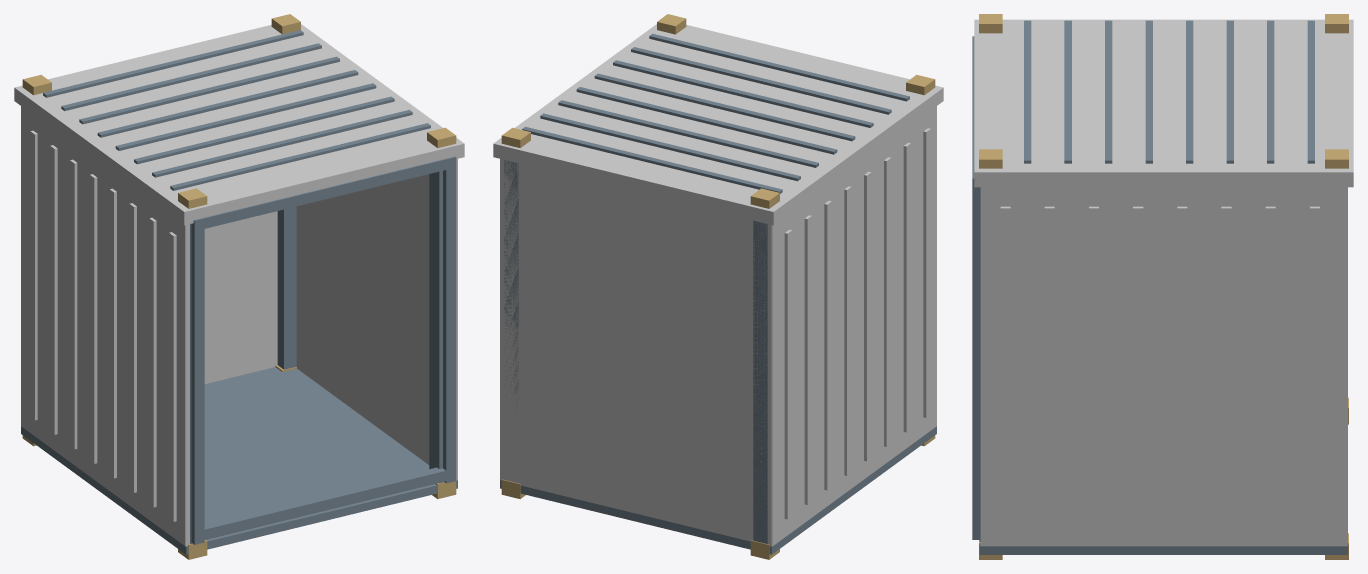
File: contenedor_cuerpo.glb
The picture shows the model from 3 angles, left to right: view 1: azimuth 30°, elevation 25°; view 2: azimuth 150°, elevation 25°; view 3: azimuth 270°, elevation 25°; orthographic projection. The views are drawn at different scales.
Visible parts, largest first — view 1: contenedor_cuerpo; view 2: contenedor_cuerpo; view 3: contenedor_cuerpo.
Part boxes in pixels (<box>): contenedor_cuerpo: <box>14,14,464,559</box>; contenedor_cuerpo: <box>493,14,943,559</box>; contenedor_cuerpo: <box>972,14,1353,559</box>.
Size of the model in its own units: 1.96 by 2.4 by 2.07.
